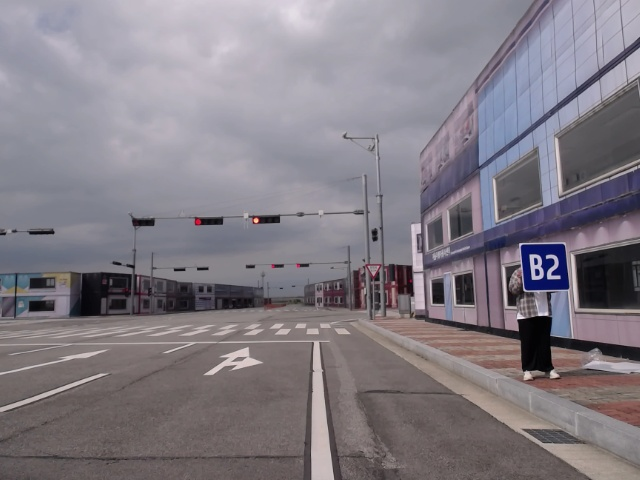delivery_b2: (520, 242, 572, 292)
red_4: (193, 215, 224, 227), (251, 215, 283, 225), (295, 262, 313, 269), (270, 263, 286, 269)
